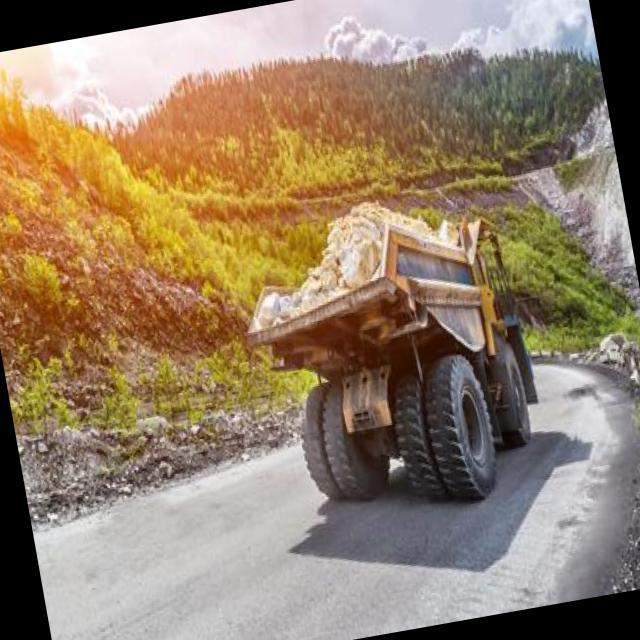Camion volquete: (232, 197, 556, 553)
